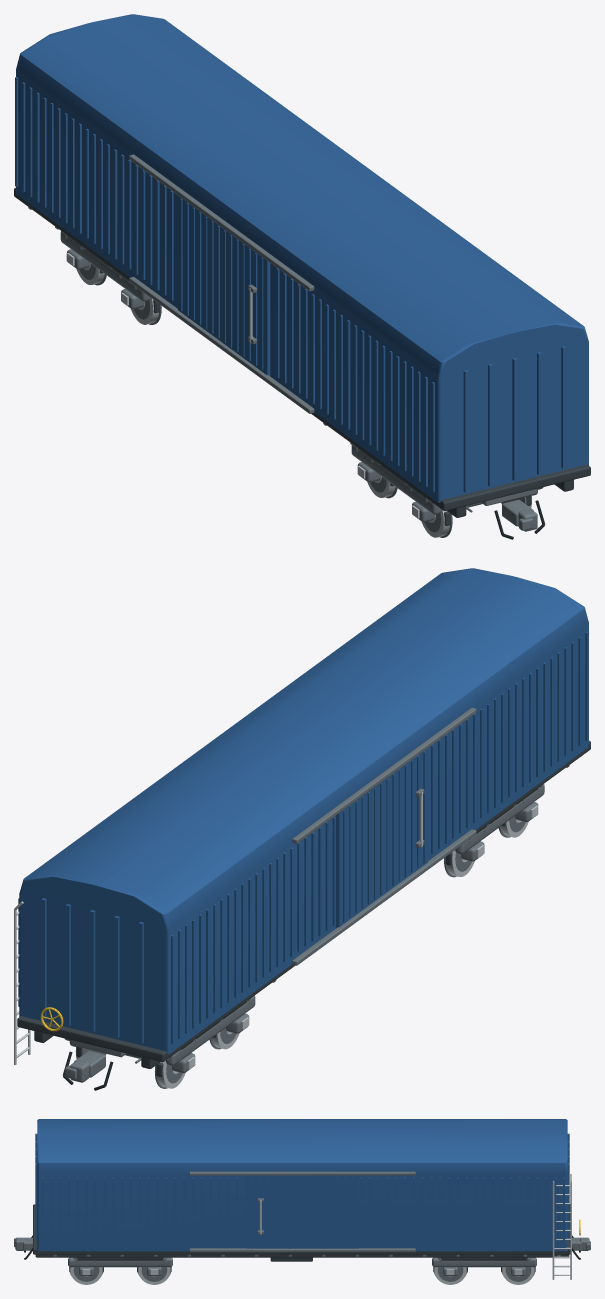
The model's file is wagon_covered.glb.
The picture shows the model from 3 angles, top to bottom: view 1: azimuth 30°, elevation 25°; view 2: azimuth 150°, elevation 25°; view 3: azimuth 270°, elevation 25°; orthographic projection. The views are drawn at different scales.
Parts seen in each view (by area): view 1: covered_body, corrugation, deck, bogie_0_frame, bogie_1_frame, coupler_front, underframe; view 2: covered_body, corrugation, deck, bogie_1_frame, bogie_0_frame, coupler_rear, access_ladders, underframe; view 3: covered_body, corrugation, deck, underframe, bogie_0_frame, bogie_1_frame, access_ladders, bogie_0_wheel_1_R, bogie_1_wheel_0_R, bogie_0_wheel_0_R, bogie_1_wheel_1_R, coupler_rear (+1 smaller).
Boxes of the visible parts, x1,y1,x2,y2 form: covered_body: [16, 14, 588, 502]; corrugation: [15, 77, 566, 492]; deck: [14, 187, 590, 510]; bogie_0_frame: [351, 445, 543, 525]; bogie_1_frame: [60, 231, 160, 313]; coupler_front: [494, 499, 545, 539]; underframe: [28, 207, 573, 517]; covered_body: [19, 568, 588, 1053]; corrugation: [18, 632, 588, 1044]; deck: [17, 740, 590, 1062]; bogie_1_frame: [64, 995, 255, 1076]; bogie_0_frame: [445, 784, 544, 865]; coupler_rear: [62, 1051, 113, 1090]; access_ladders: [14, 901, 30, 1064]; underframe: [34, 765, 569, 1068]; covered_body: [37, 1119, 567, 1251]; corrugation: [35, 1133, 569, 1252]; deck: [33, 1204, 570, 1254]; underframe: [35, 1254, 569, 1257]; bogie_0_frame: [68, 1257, 172, 1275]; bogie_1_frame: [432, 1257, 536, 1275]; access_ladders: [552, 1174, 571, 1279]; bogie_0_wheel_1_R: [137, 1267, 170, 1284]; bogie_1_wheel_0_R: [434, 1267, 467, 1284]; bogie_0_wheel_0_R: [70, 1267, 102, 1284]; bogie_1_wheel_1_R: [502, 1267, 534, 1284]; coupler_rear: [572, 1235, 590, 1259].
Bounding box in the file's own units: 3.52 × 4.35 × 16.32.
